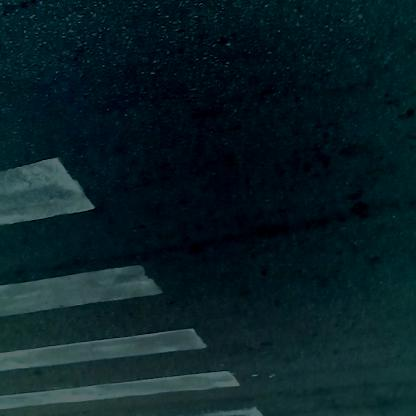crosswalk: (2, 148, 269, 416)
